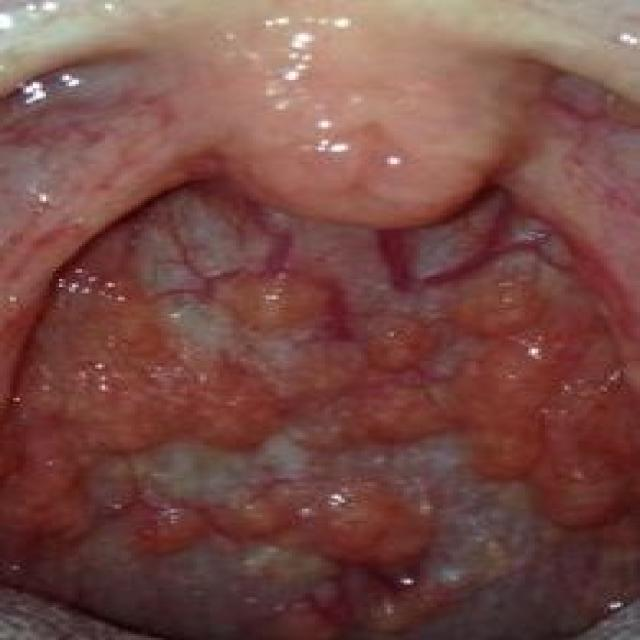Non Pharyngitis: (2, 76, 640, 422)
